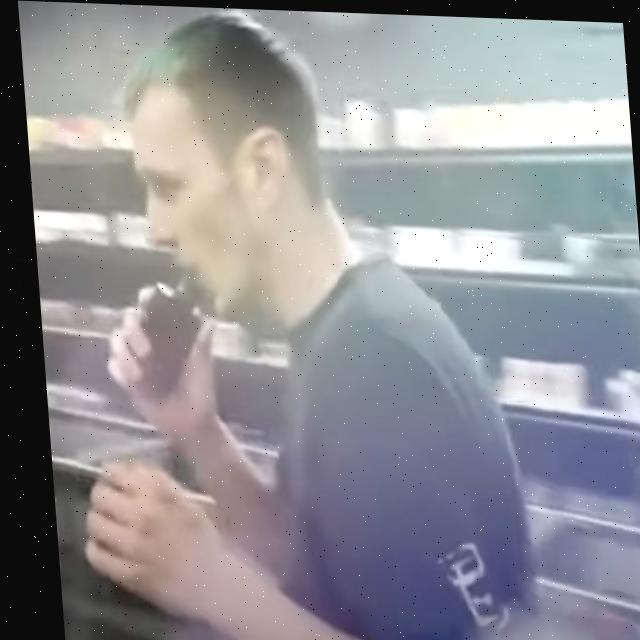vape: (109, 266, 204, 404)
